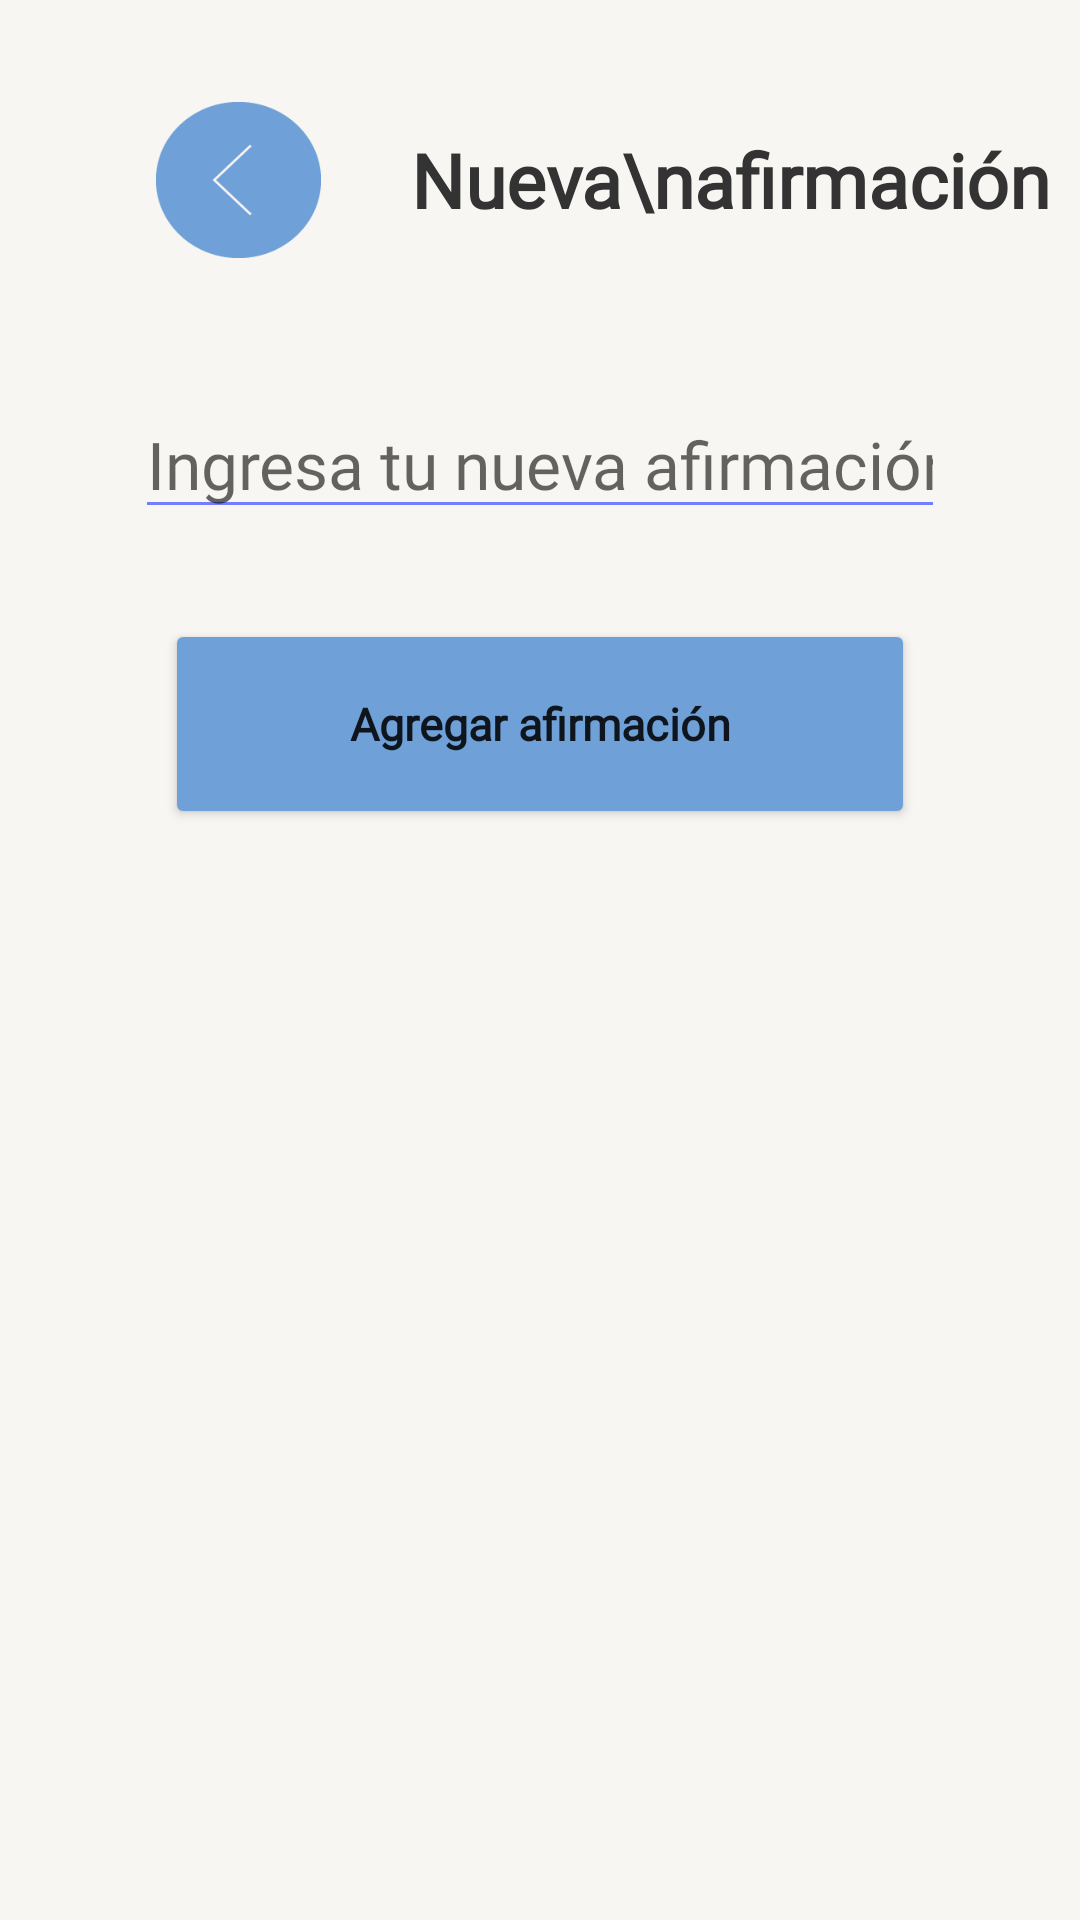

Named icons in this screenshot (1080 x 1920) and their centers, [x,y]:
regresar xxxdpi: [238,180]
